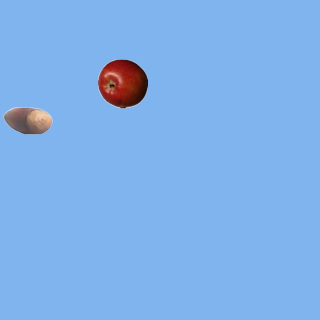Apple Braeburn: (97, 58, 147, 108)
Hazelnut: (2, 95, 52, 145)
